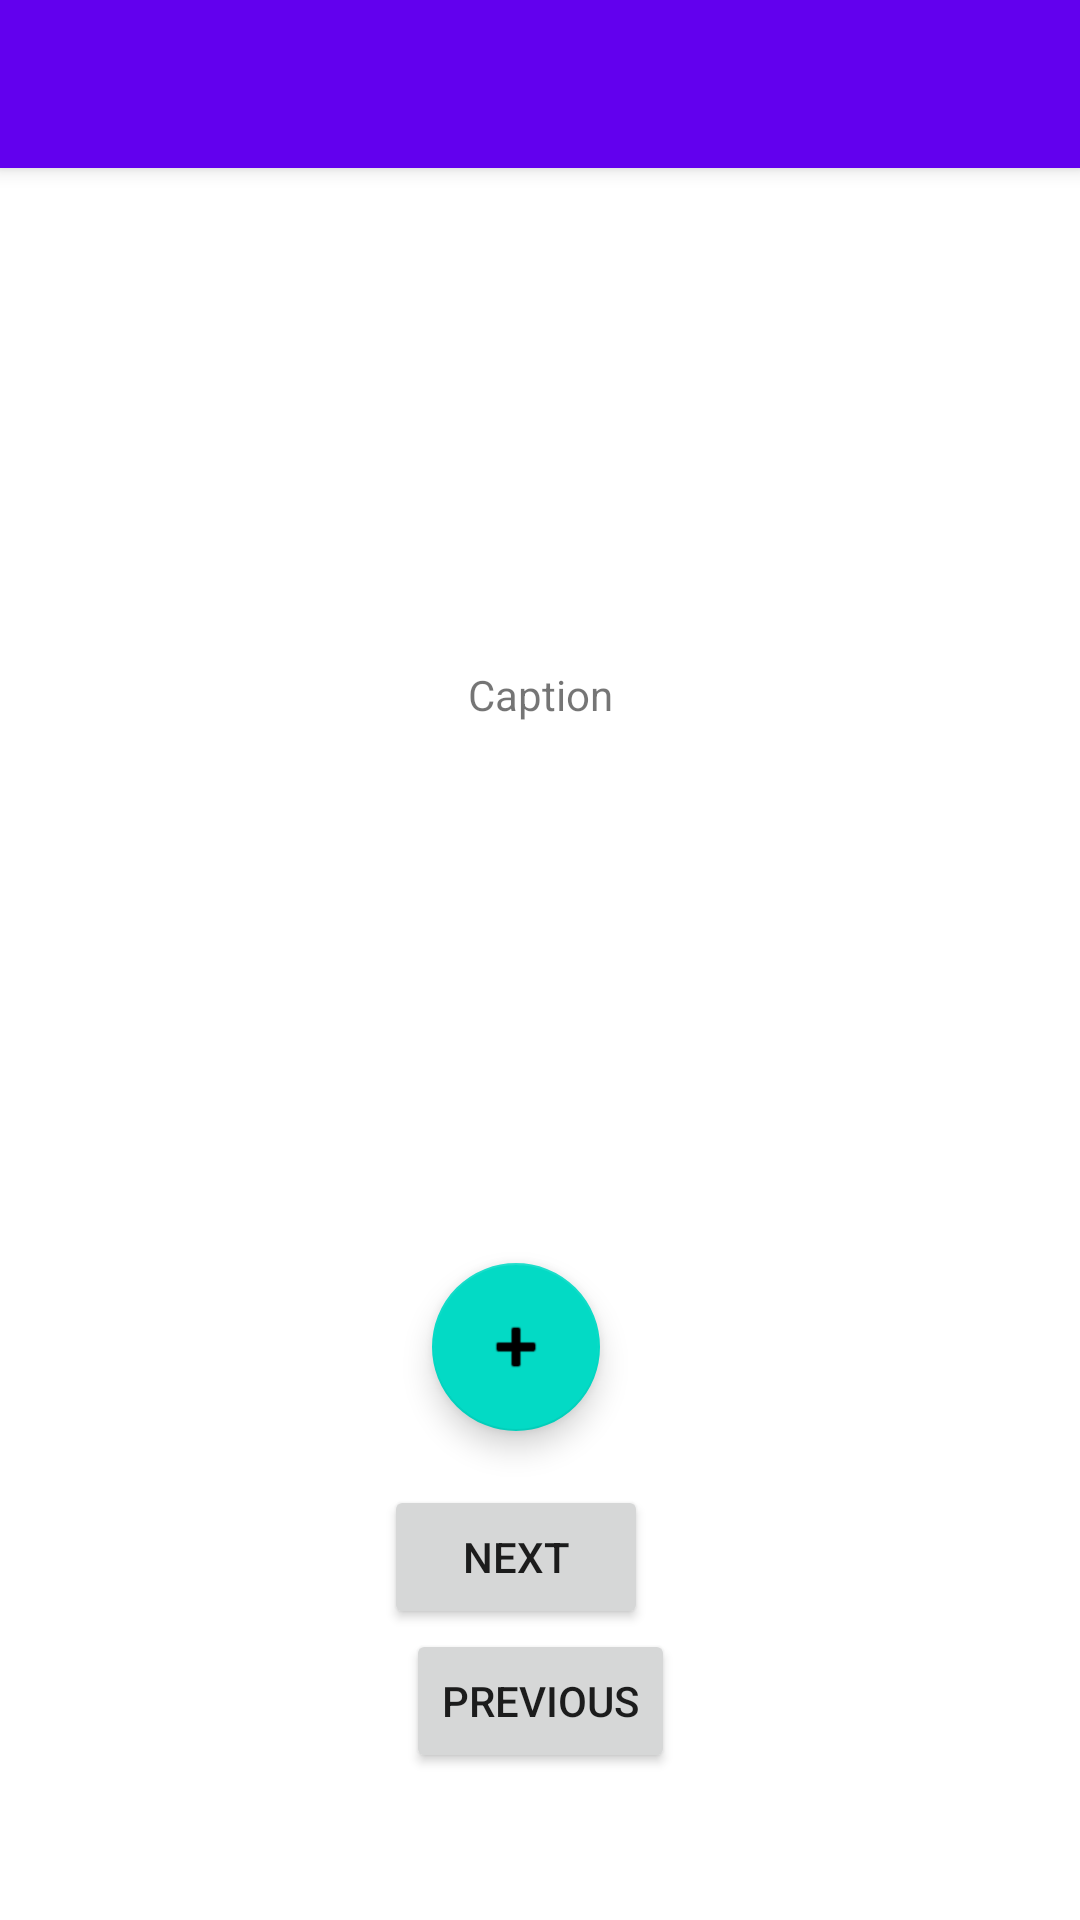

Icon click points for this 1080w x 1920h phone screenshot, format (x=x, y=y):
Add tag: (x=516, y=1347)
